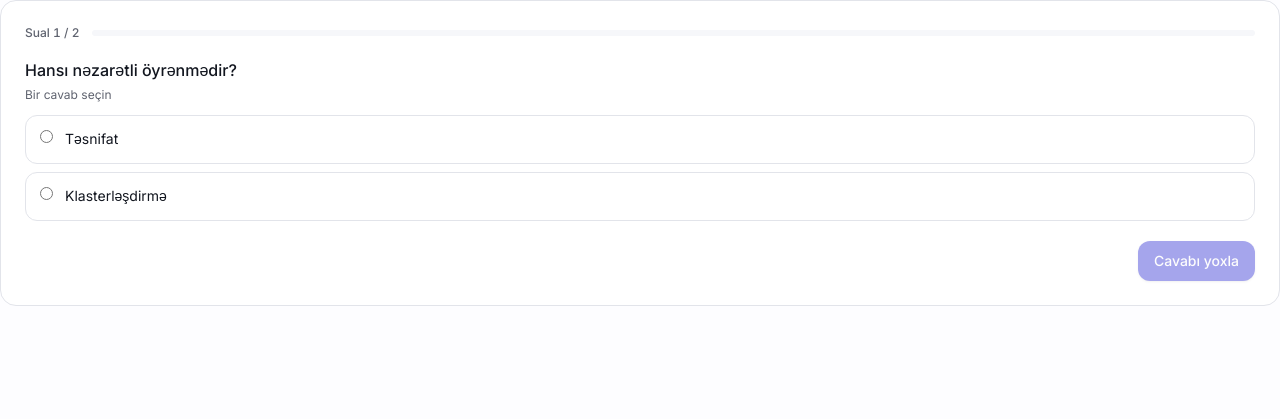
Scenario: <QuizPlayer /> › checks answers, shows explanations and records the attempt
Expected: the button "Cavabı yoxla" is disabled, [1138,240,1255,280]
Click the radio button labelled "Təsnifat".
click(46, 136)  # box [40,130,53,143]
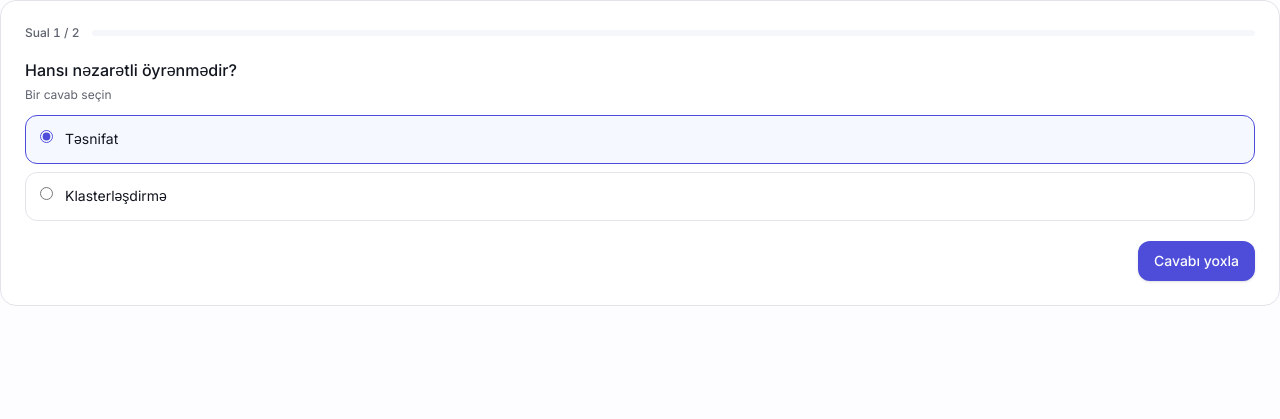
Click the button "Cavabı yoxla".
click(1196, 260)  # box [1138,240,1255,280]
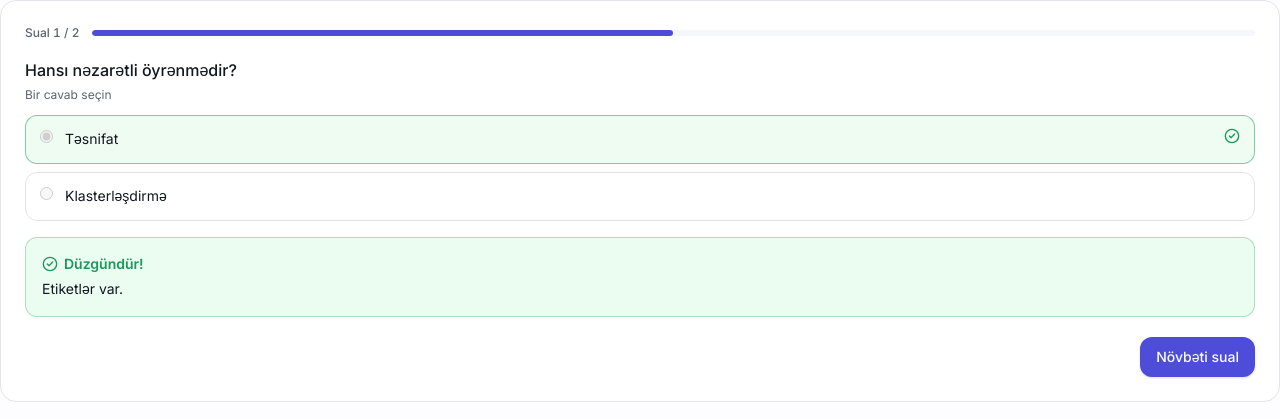
Expected: the text "Düzgündür!" is shown, [42,254,144,272]
Expected: the text "Etiketlər var." is shown, [42,280,123,296]
Click the button "Növbəti sual".
click(1198, 357)  # box [1140,337,1255,377]
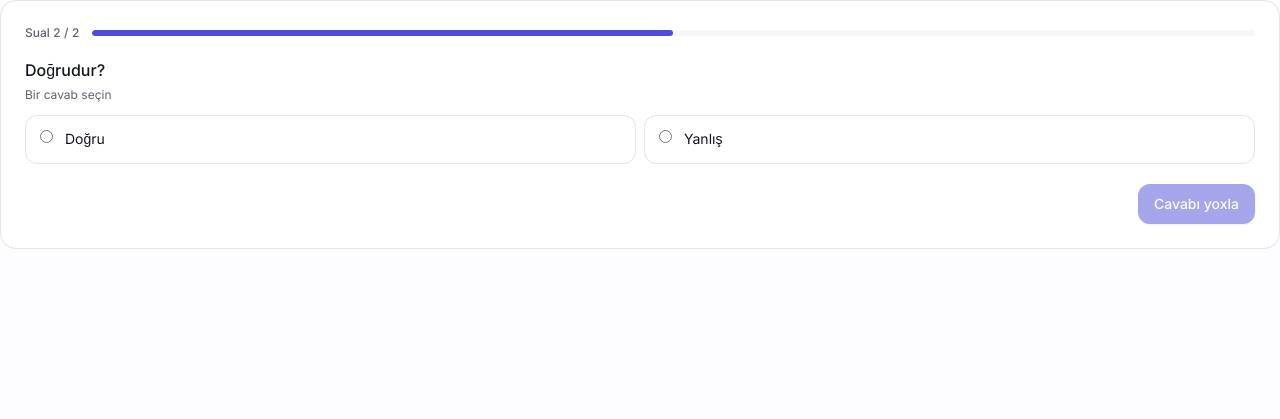
Click the radio button labelled "Yanlış".
click(666, 136)  # box [659,130,672,143]
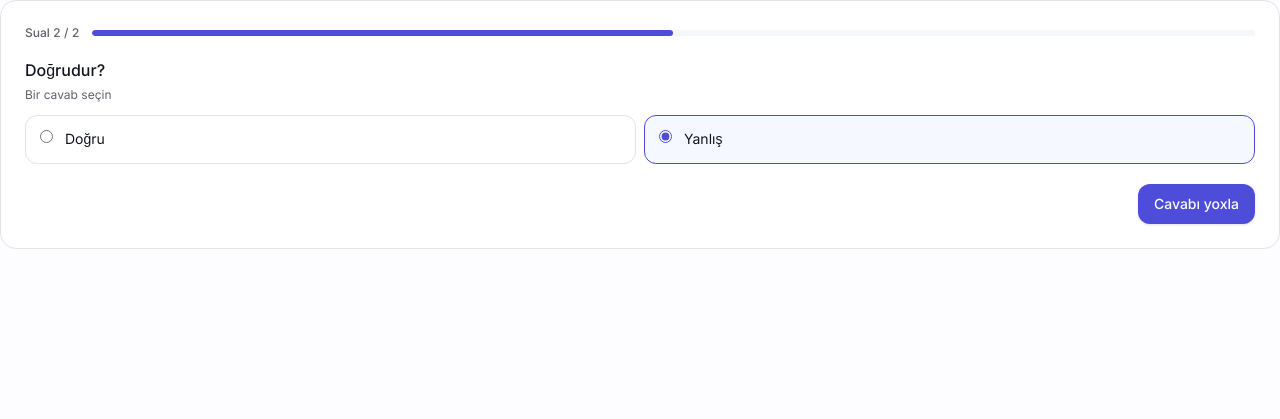
Click the button "Cavabı yoxla".
click(1196, 204)  # box [1138,184,1255,224]
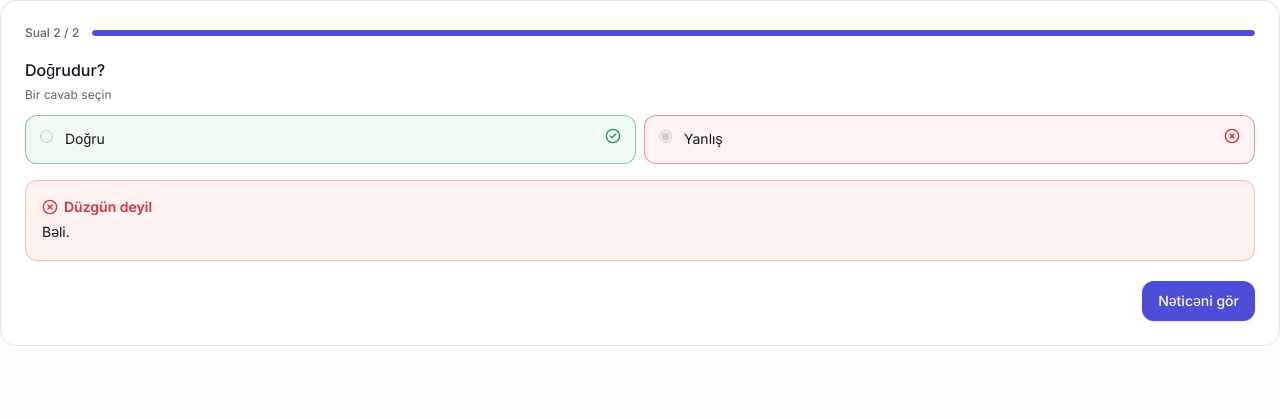
Expected: the text "Düzgün deyil" is shown, [42,198,152,215]
Click the button "Nəticəni gör".
click(1199, 300)  # box [1142,280,1255,320]
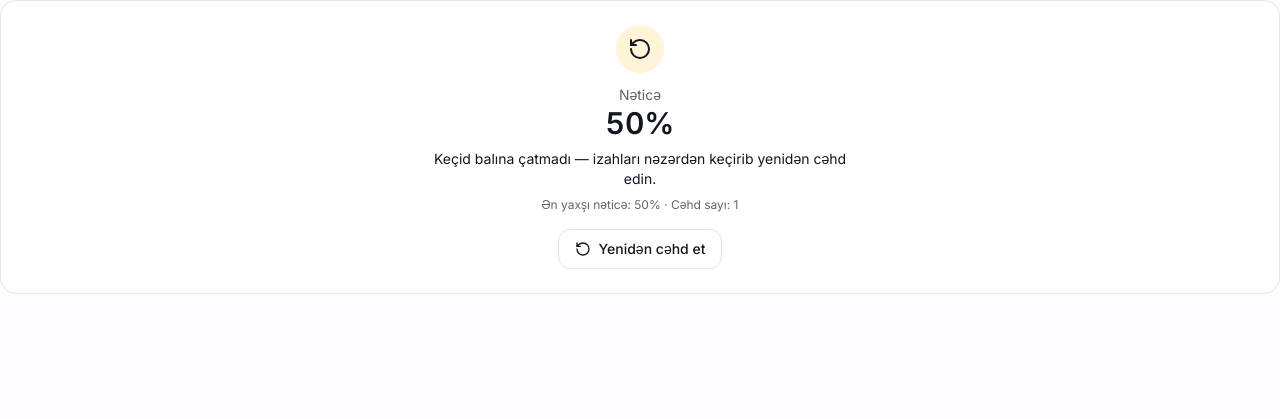
Expected: the text "50%" is shown, [606,105,674,141]
